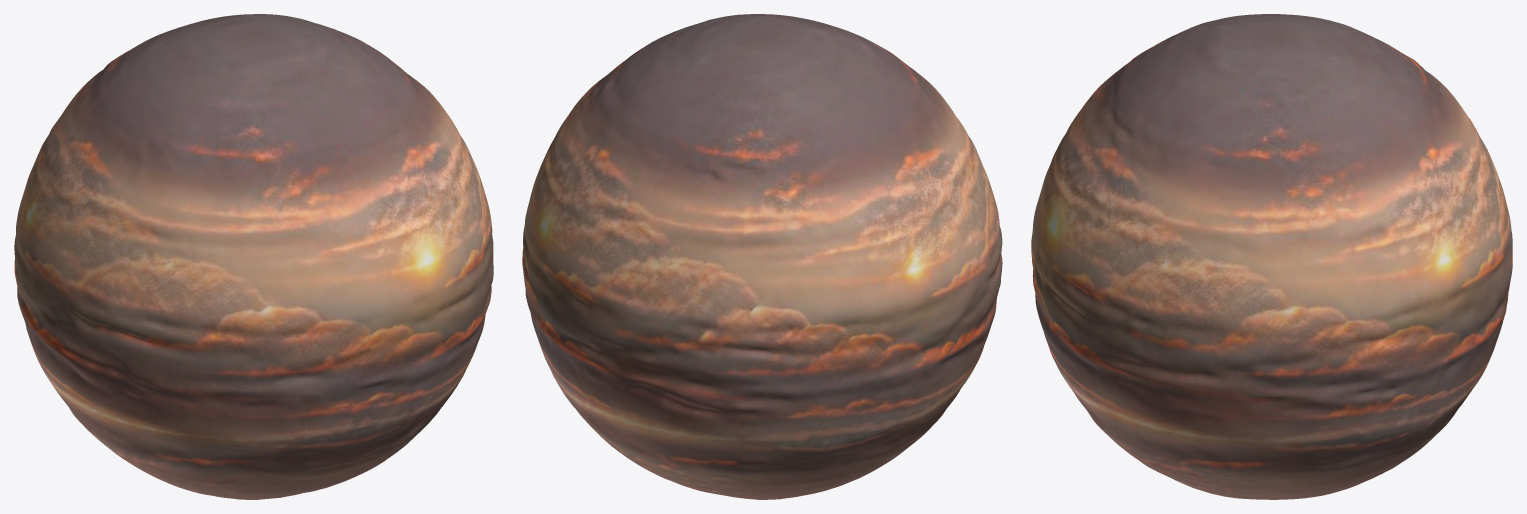
File: longing.glb
The picture shows the model from 3 angles, left to right: view 1: azimuth 30°, elevation 25°; view 2: azimuth 150°, elevation 25°; view 3: azimuth 270°, elevation 25°; orthographic projection.
Parts seen in each view (by area): view 1: geometry_0; view 2: geometry_0; view 3: geometry_0.
Boxes of the visible parts, left/top/right/bottom form: geometry_0: left=14, top=14, right=493, bottom=499; geometry_0: left=522, top=14, right=1002, bottom=499; geometry_0: left=1031, top=14, right=1512, bottom=499.
Bounding box in the file's own units: 0.5918 × 0.5988 × 0.5911.
Materials: 1 (1 with a texture image).
